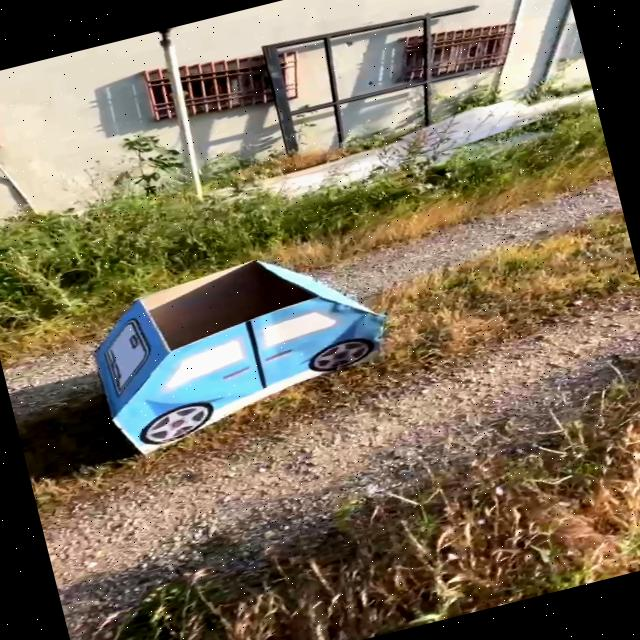blue_car: (11, 197, 440, 498)
